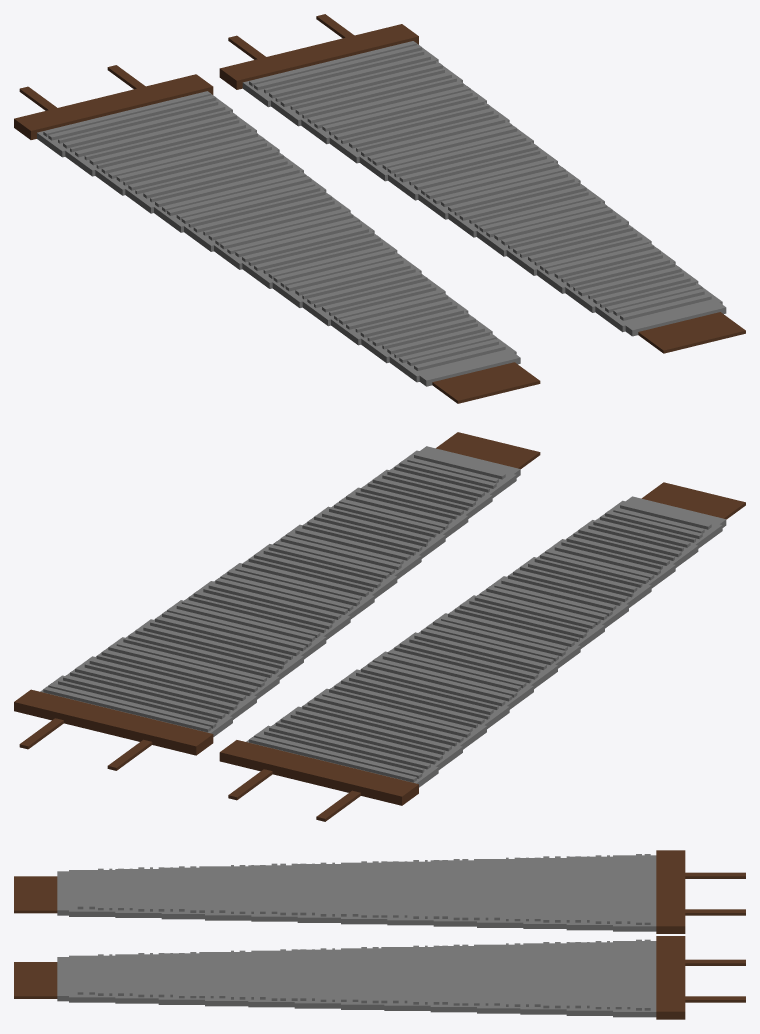
The model's file is lc_chainmail_legs.glb.
3 views of the same model, one above another, from view 1: azimuth 30°, elevation 25°; view 2: azimuth 150°, elevation 25°; view 3: azimuth 270°, elevation 25° (orthographic). The views are drawn at different scales.
Visible parts, largest first — view 1: lc_chainmail_legs:compound; view 2: lc_chainmail_legs:compound; view 3: lc_chainmail_legs:compound.
Boxes of the visible parts, left/top/right/bottom form: lc_chainmail_legs:compound: left=14, top=14, right=745, bottom=403; lc_chainmail_legs:compound: left=14, top=432, right=745, bottom=821; lc_chainmail_legs:compound: left=14, top=850, right=745, bottom=1019.
Size of the model in its own units: 0.528 by 0.012 by 1.01.
